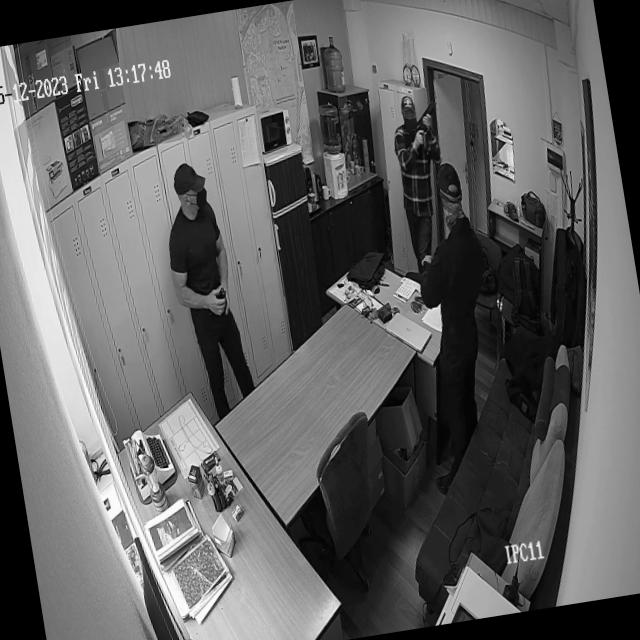gun: (412, 96, 442, 132)
person: (156, 156, 266, 432), (422, 163, 502, 450)
person with a gun: (382, 87, 459, 274)
